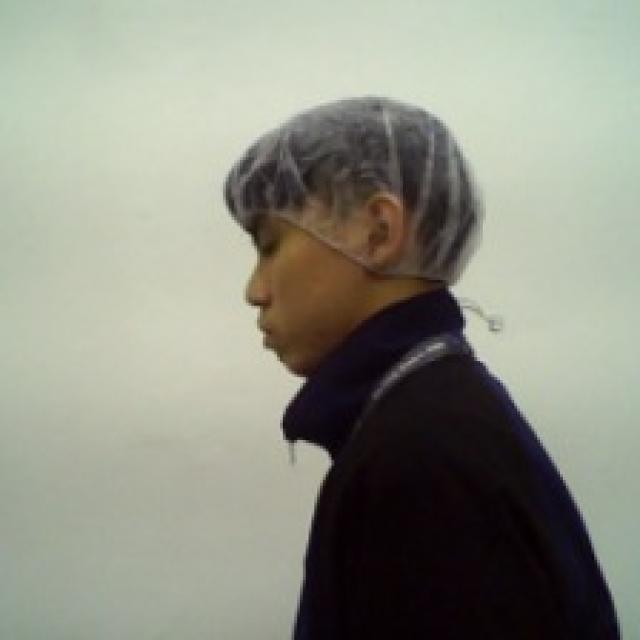gloves: (219, 91, 490, 294)
no_hairnet: (230, 184, 424, 374)
